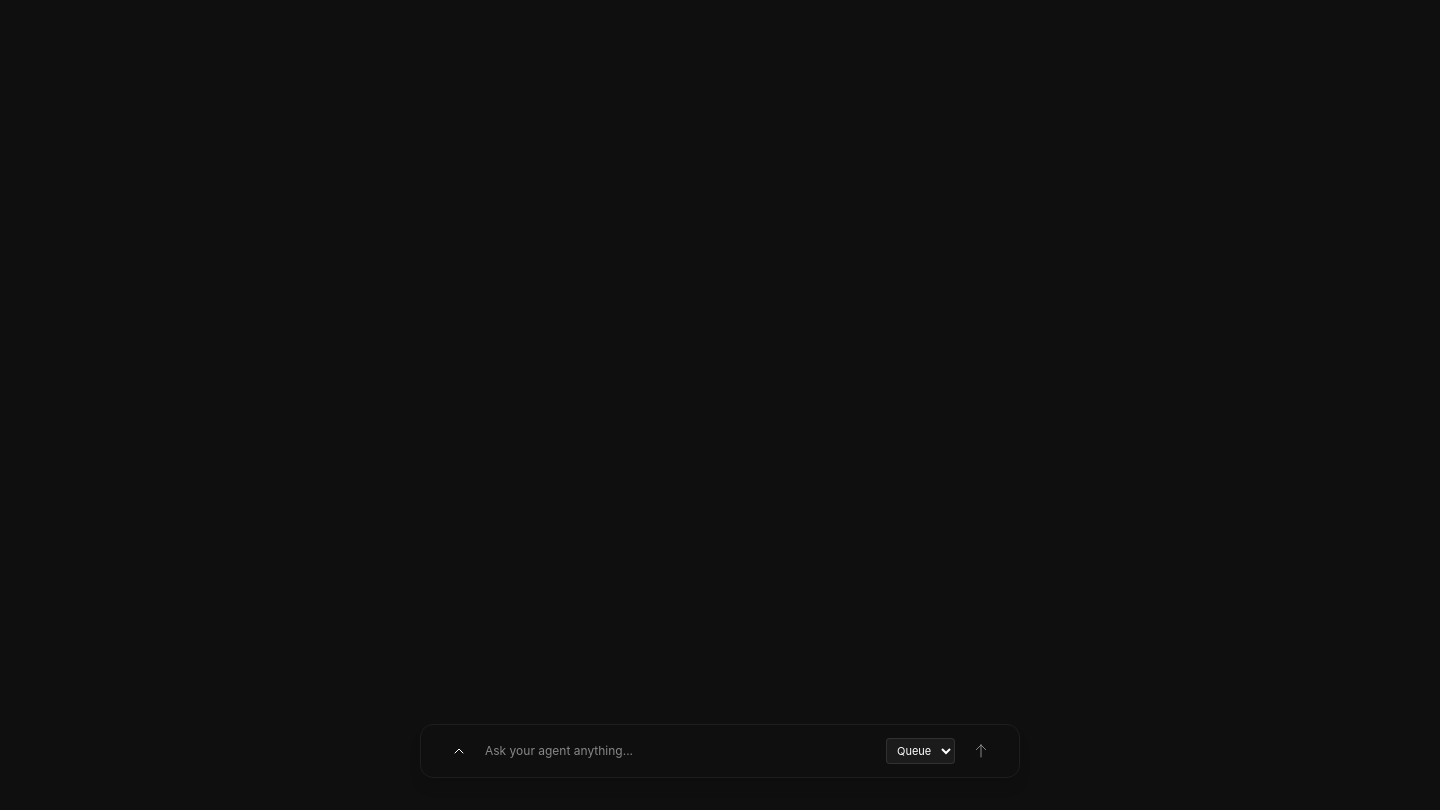
Test: FloatingChat › keeps a conversation visible if deleting it fails
Click the button named "Expand agent chat": point(459, 751) [445,737,473,765]
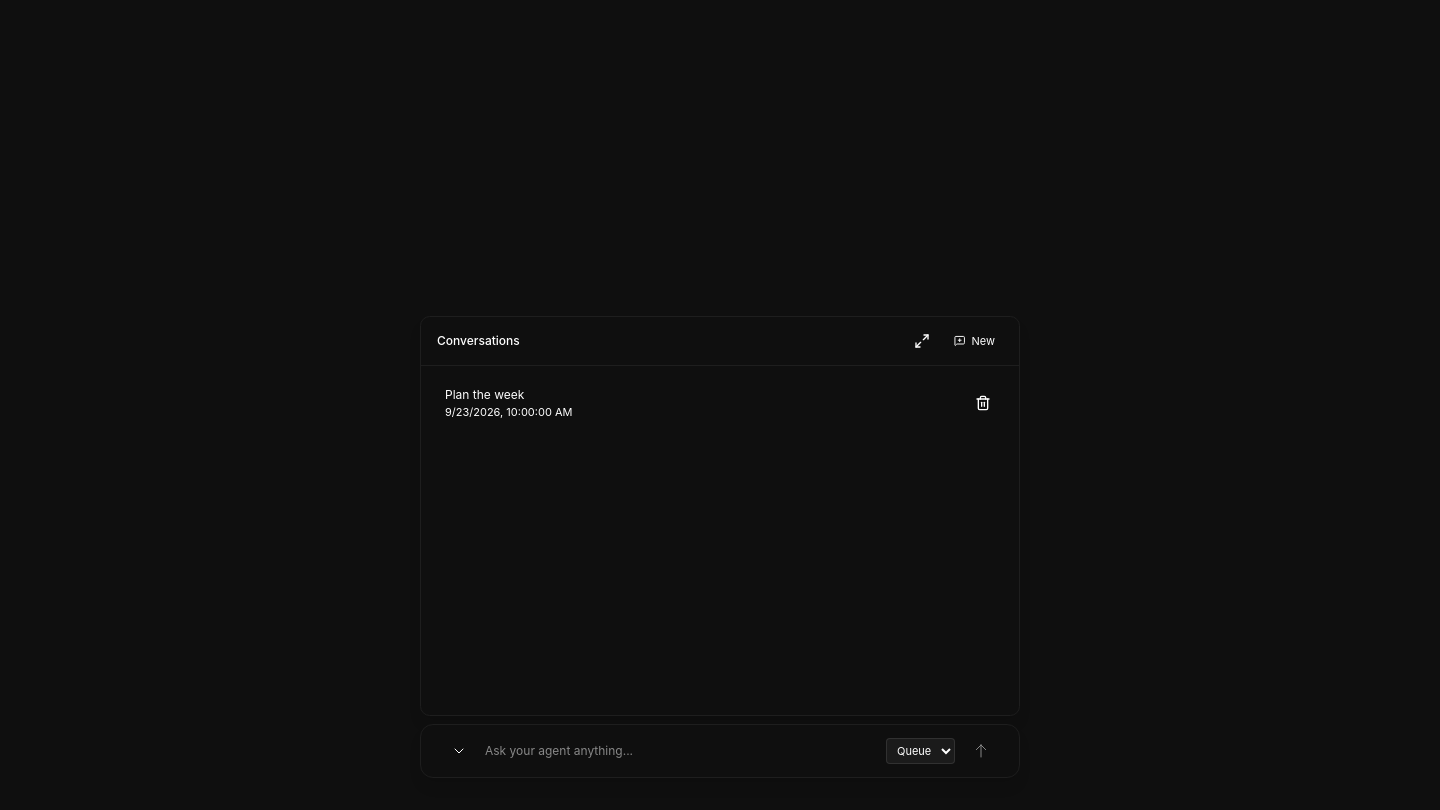
Expected: the button "Plan the week 9/23/2026, 10:00:00 AM" is shown, [433,378,967,428]
Click the button named "Delete conversation": point(983, 403) [967,387,999,419]
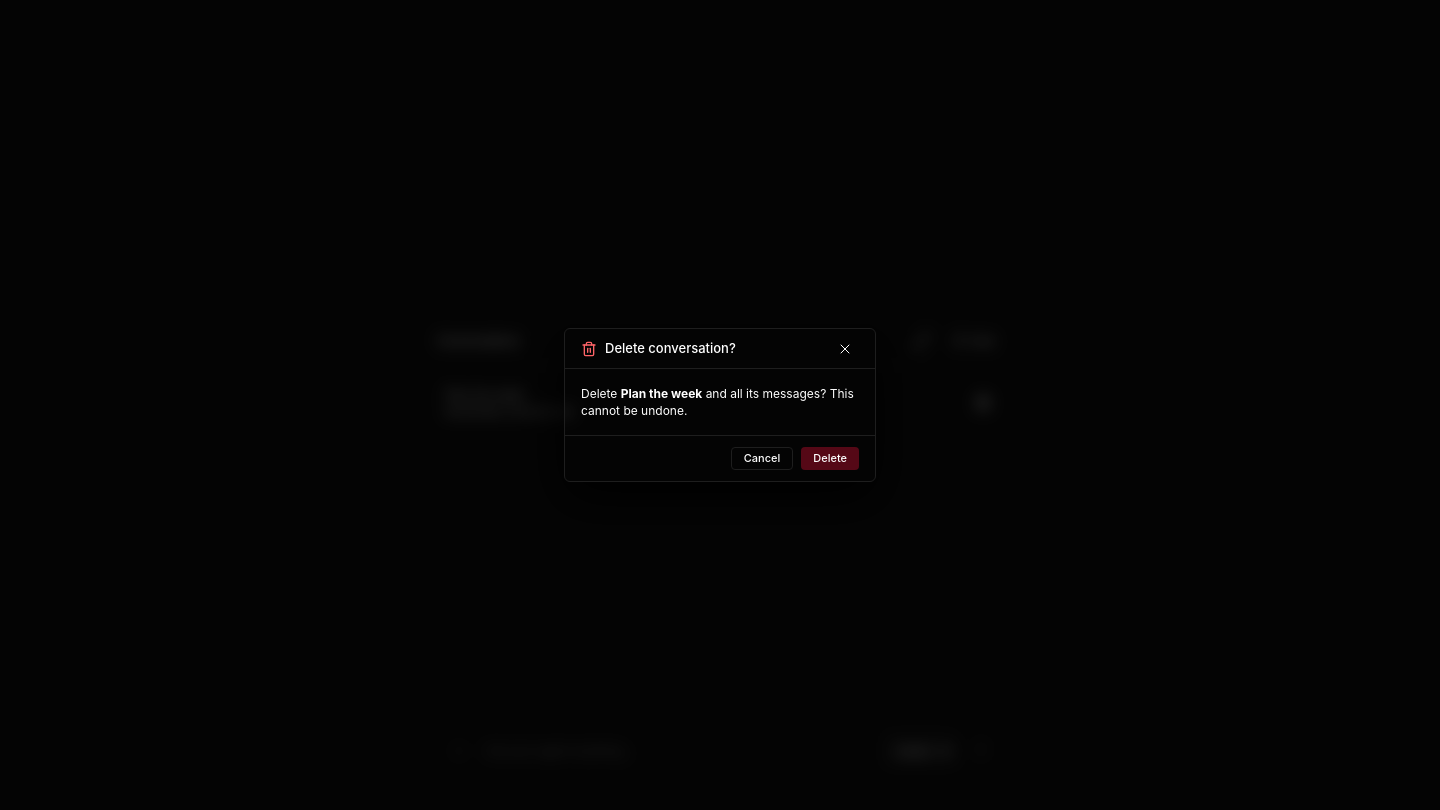
Click the button "Delete": point(830, 459) [801,447,859,470]
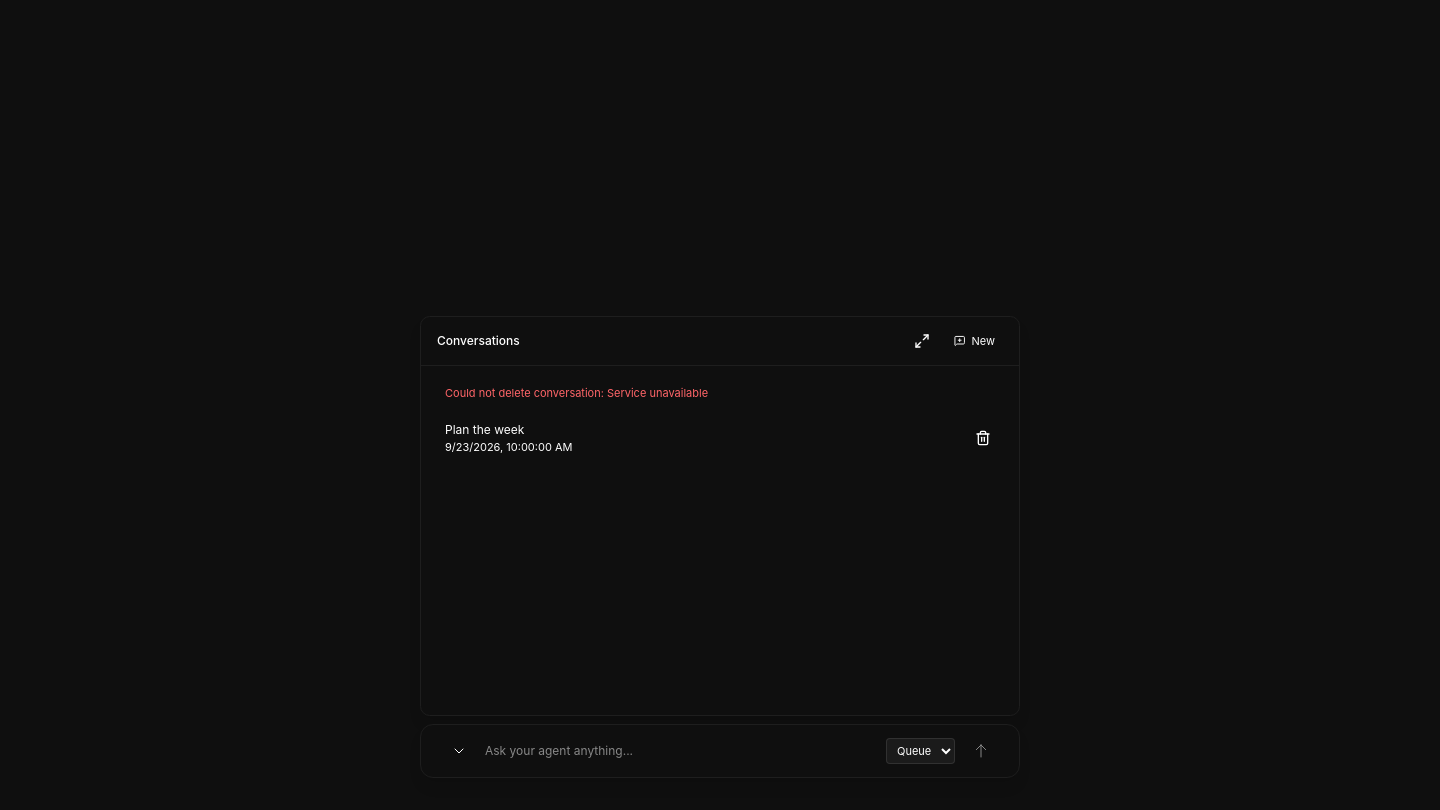
Expected: the button "Plan the week 9/23/2026, 10:00:00 AM" is shown, [433,413,967,463]
Expected: the message "Could not delete conversation: Service unavailable" is shown, [445,386,708,400]
